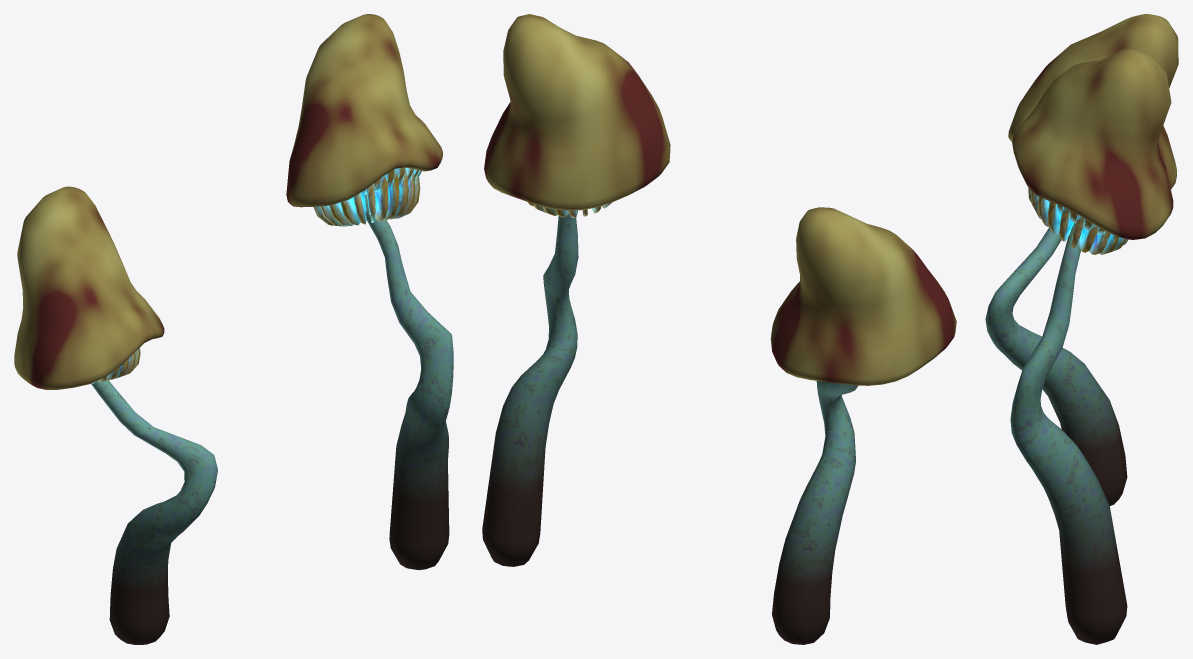
Rendered from glowmush.fbx.
The picture shows the model from 3 angles, left to right: view 1: azimuth 30°, elevation 25°; view 2: azimuth 150°, elevation 25°; view 3: azimuth 270°, elevation 25°; orthographic projection. The views are drawn at different scales.
Visible parts, largest first — view 1: TallMush2, TallMush1; view 2: TallMush2, TallMush1; view 3: TallMush2, TallMush1.
Boxes of the visible parts, x1,y1,x2,y2 form: TallMush2: (286,14,453,569); TallMush1: (14,186,217,644); TallMush2: (482,14,670,566); TallMush1: (770,207,956,644); TallMush2: (1010,49,1173,644); TallMush1: (985,14,1178,505).
Size of the model in its own units: 889 by 1101 by 332.
